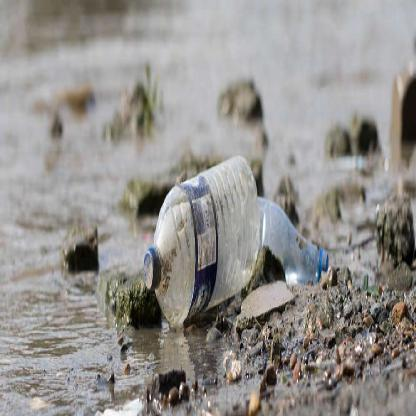bottle: (124, 153, 266, 348), (257, 175, 341, 316)
